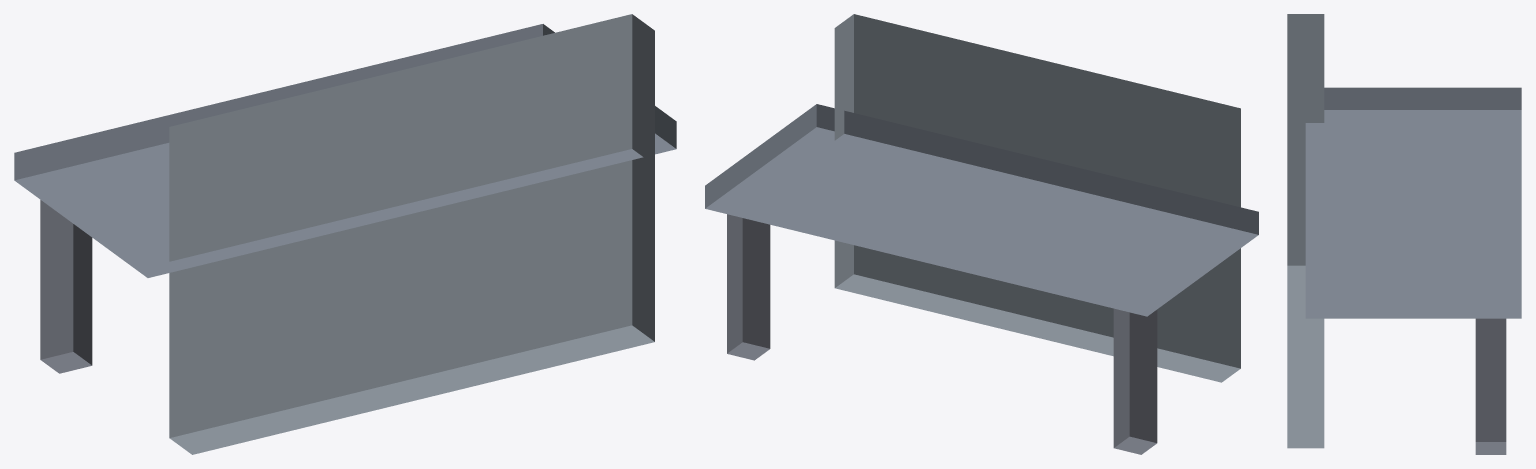
The model's file is reception_desk.gltf.
The picture shows the model from 3 angles, left to right: view 1: azimuth 30°, elevation 25°; view 2: azimuth 150°, elevation 25°; view 3: azimuth 270°, elevation 25°; orthographic projection. The views are drawn at different scales.
Visible parts, largest first — view 1: reception_desk; view 2: reception_desk; view 3: reception_desk.
Part boxes in pixels (left/top/right/bottom): reception_desk: left=14, top=14, right=676, bottom=454; reception_desk: left=705, top=14, right=1258, bottom=454; reception_desk: left=1287, top=14, right=1521, bottom=454.
Size of the model in its own units: 1.6 by 0.9 by 0.76.
